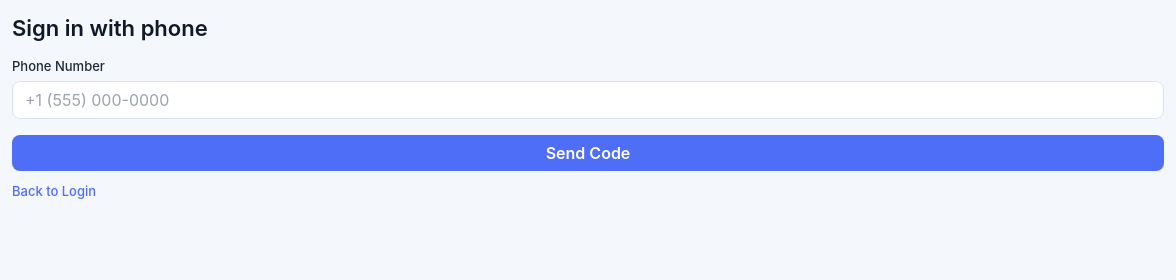
Test: PhoneLoginForm › OTP verification form › shows verifying state during submission
Submit the text "Sign in with phone"
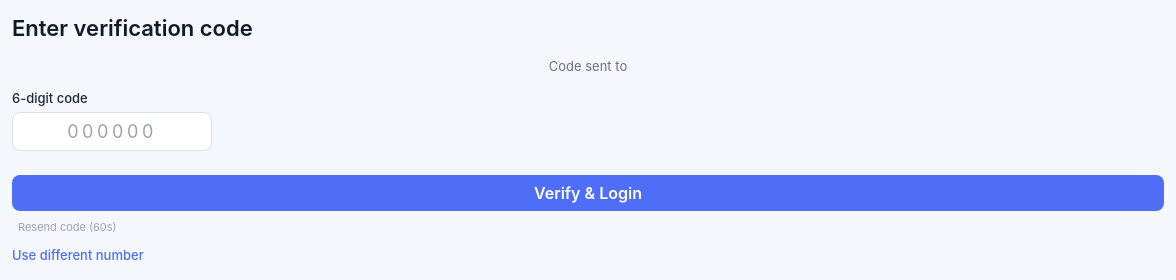
Result: the field labelled "6-digit code" is shown
Type "123456" into the field labelled "6-digit code" at (112, 132), box top-left (12, 112), bottom-right (212, 151)
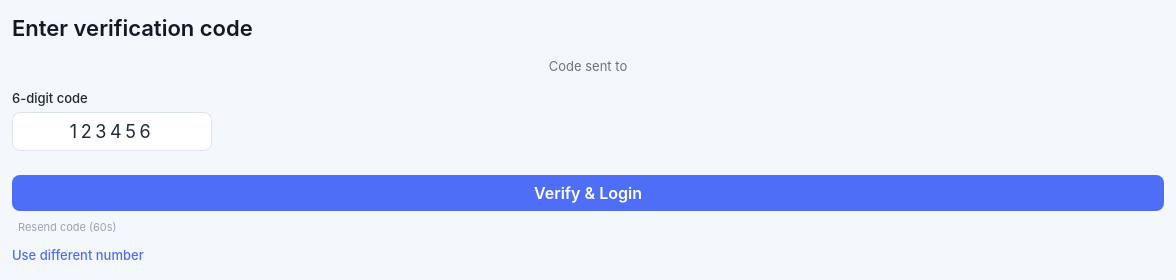
Submit the text "Sign in with phone"
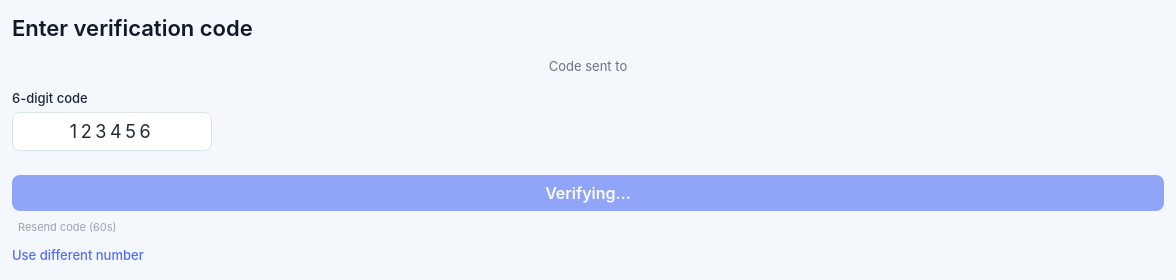
Result: the button "Verifying…" is shown at top-left (12, 175), bottom-right (1164, 211)
